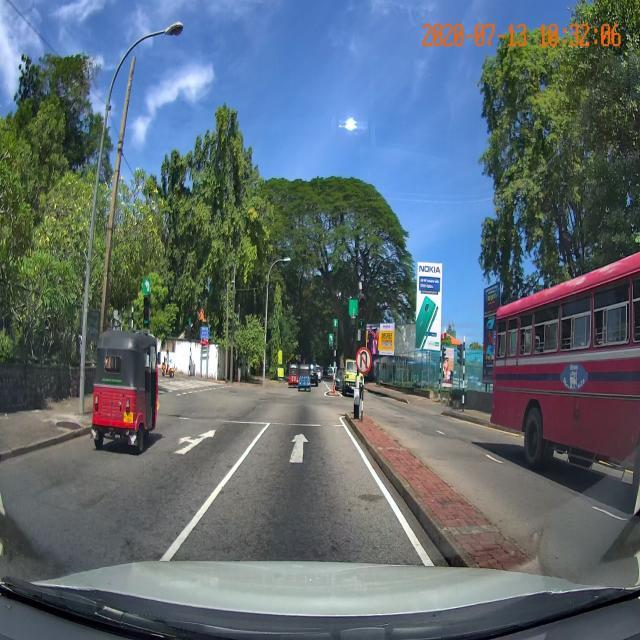forward: (234, 428, 371, 469)
